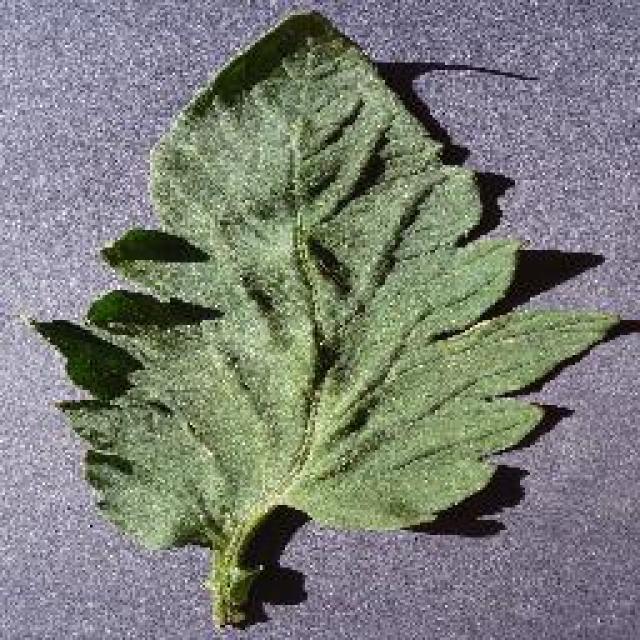Tomato_Healthy: (41, 9, 597, 561)
